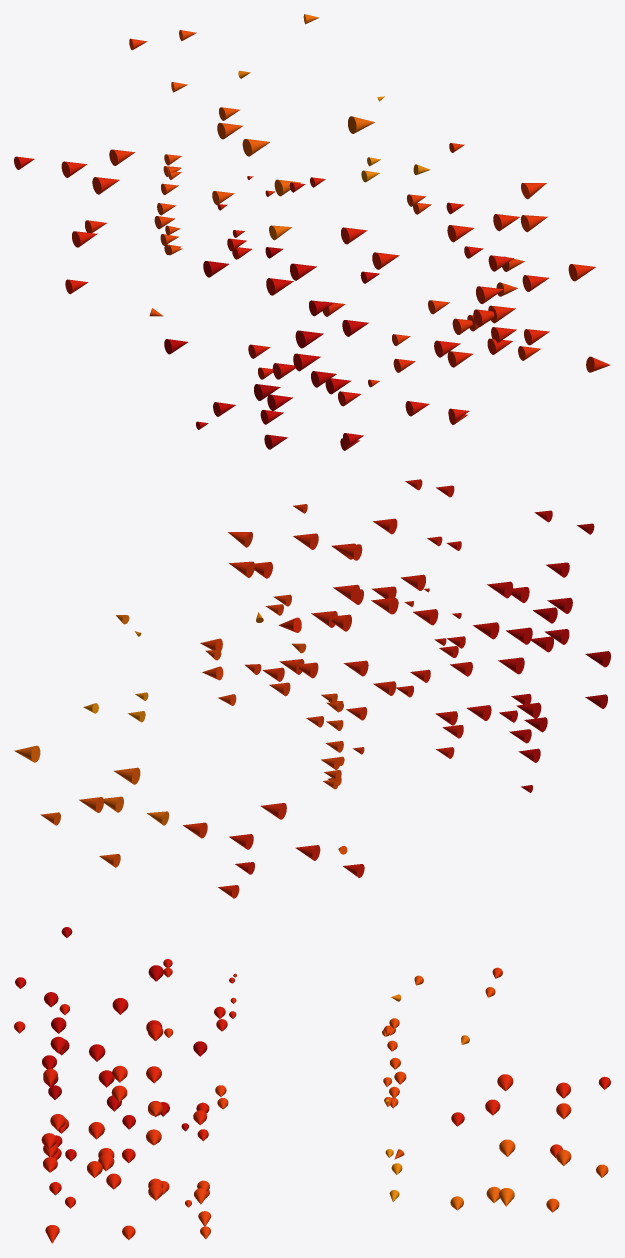
File: LineasCorrienteH2-O2_mh2-5.58_V-1.1.glb
3 renders of one model, top to bottom at view 1: azimuth 30°, elevation 25°; view 2: azimuth 150°, elevation 25°; view 3: azimuth 270°, elevation 25°, orthographic. The views are drawn at different scales.
Size of the model in its own units: 0.000806 by 0.000481 by 0.00123.
2 materials, 2 textured.
